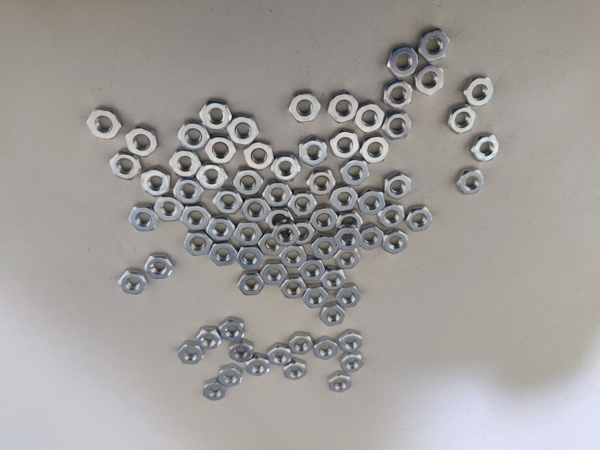nut: (226, 112, 260, 146), (87, 108, 122, 139), (125, 125, 159, 156), (388, 45, 418, 80), (168, 148, 203, 177), (419, 26, 448, 61), (413, 64, 444, 96), (139, 167, 172, 197), (464, 75, 494, 108), (289, 93, 320, 123), (328, 92, 358, 123), (199, 101, 231, 130), (242, 141, 274, 170), (174, 176, 205, 205), (382, 80, 413, 109), (211, 189, 244, 216), (382, 110, 411, 140), (405, 203, 434, 233), (110, 152, 141, 180), (206, 136, 237, 164), (130, 203, 159, 232), (234, 167, 263, 196), (331, 129, 359, 159), (178, 122, 209, 149), (356, 103, 383, 134), (472, 131, 499, 162), (116, 269, 148, 295), (382, 173, 414, 199), (289, 189, 317, 218), (359, 189, 388, 217), (362, 134, 389, 164), (341, 158, 369, 186), (300, 138, 327, 167), (331, 186, 358, 215), (144, 254, 174, 280), (263, 182, 293, 208), (458, 167, 484, 197), (183, 230, 212, 256), (241, 197, 270, 223), (272, 154, 301, 180), (259, 261, 288, 287), (450, 108, 477, 135), (310, 206, 337, 233), (235, 245, 263, 271), (381, 231, 409, 257), (330, 186, 359, 211), (198, 165, 228, 189), (334, 212, 364, 236), (183, 205, 211, 230), (334, 227, 362, 252), (379, 204, 407, 229), (205, 218, 236, 240), (335, 284, 361, 310), (220, 317, 246, 343), (157, 196, 184, 221), (308, 169, 335, 194), (360, 225, 385, 252), (235, 221, 261, 246), (211, 241, 237, 266), (299, 257, 324, 283), (321, 267, 348, 291), (176, 341, 203, 365), (315, 334, 339, 361), (311, 236, 337, 260), (327, 371, 353, 395), (237, 273, 264, 296), (318, 304, 345, 327), (260, 232, 285, 256), (339, 330, 364, 354), (267, 344, 293, 367), (196, 326, 220, 350), (340, 352, 364, 376), (283, 274, 306, 299), (275, 223, 300, 246), (267, 208, 292, 231), (281, 245, 307, 267), (302, 287, 328, 308), (335, 248, 361, 269), (221, 364, 244, 387), (292, 221, 314, 245), (283, 360, 307, 382), (204, 380, 226, 402), (248, 355, 270, 377), (292, 332, 312, 356)
